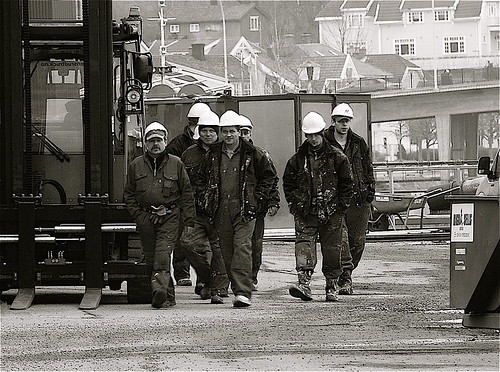person hardhat: (280, 109, 349, 303), (127, 119, 187, 311), (207, 109, 259, 317), (321, 93, 372, 294), (181, 109, 222, 306), (239, 110, 278, 291), (173, 102, 211, 160)
